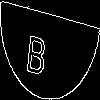B: (25, 25, 49, 77)
